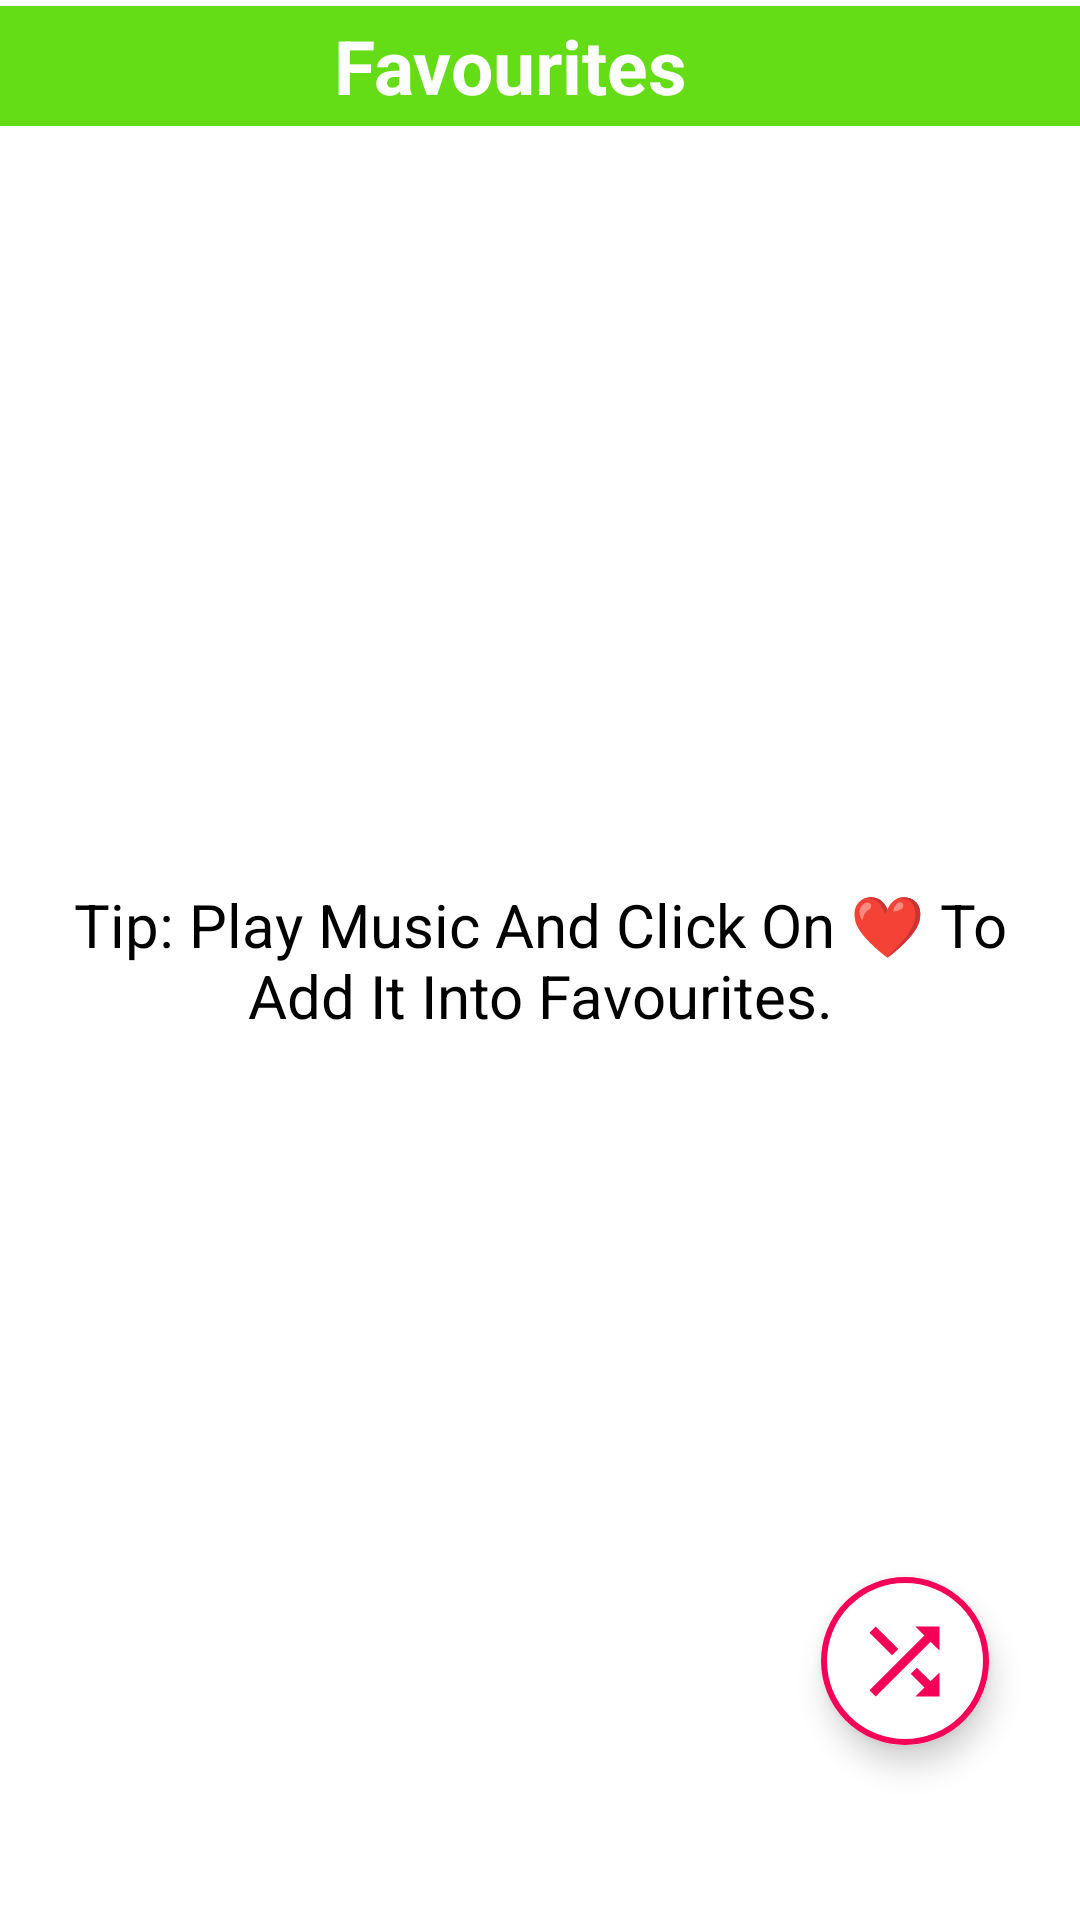

Screen size 1080 x 1920. Icon name, then its box in pixels as (x1, y1, x2, y2):
shuffle: (821, 1577, 989, 1745)
